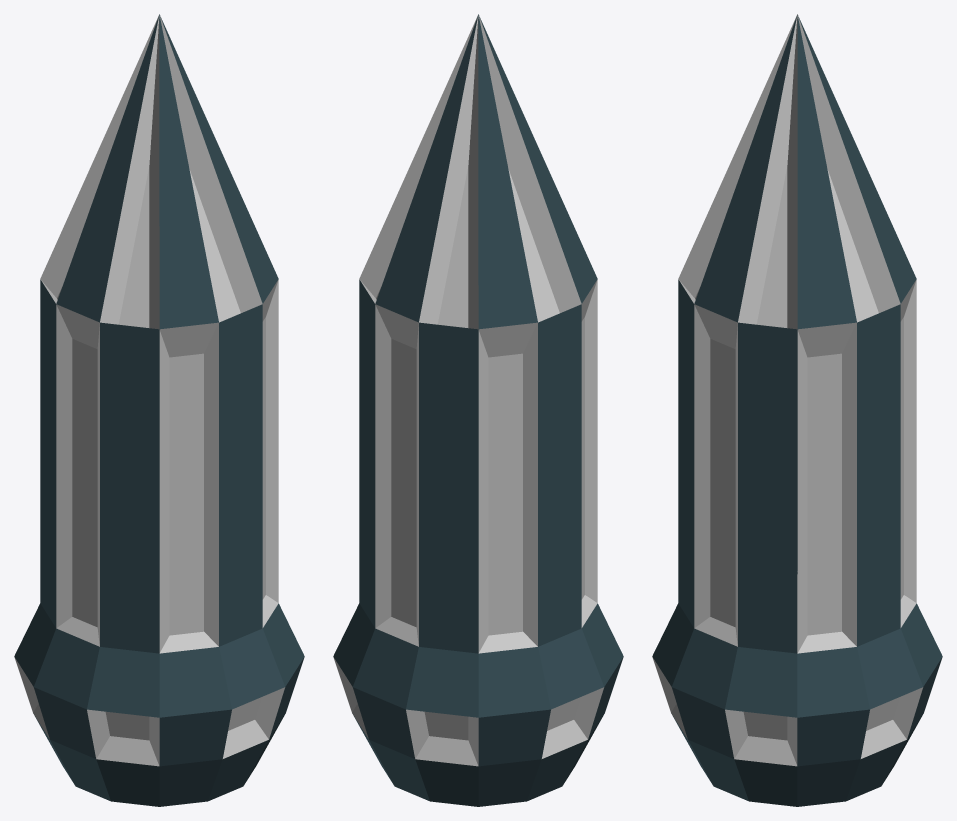
File: mini.fbx
3 renders of one model, left to right at view 1: azimuth 30°, elevation 25°; view 2: azimuth 150°, elevation 25°; view 3: azimuth 270°, elevation 25°, orthographic.
Parts seen in each view (by area): view 1: Cone; view 2: Cone; view 3: Cone.
Boxes of the visible parts, <box> form: Cone: <box>14,14,304,806</box>; Cone: <box>333,14,623,806</box>; Cone: <box>652,14,942,806</box>.
Size of the model in its own units: 70.65 by 202 by 70.65.
